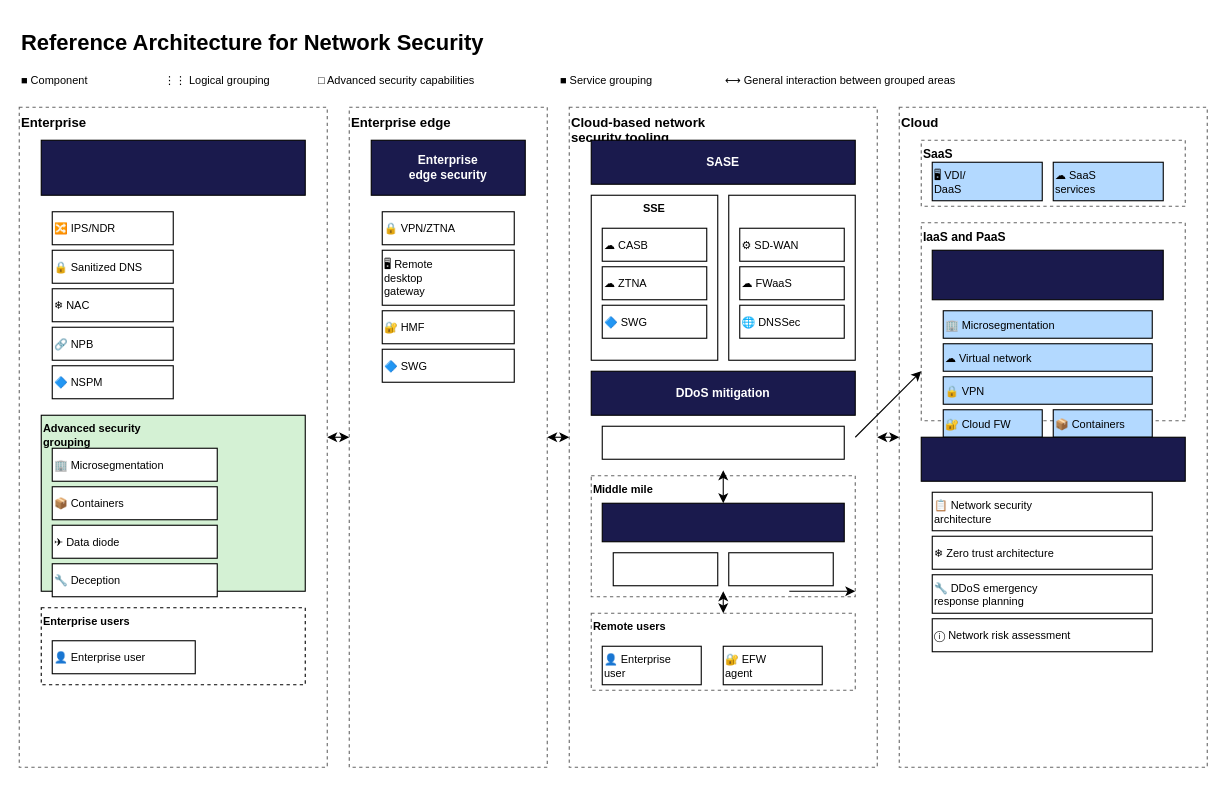
This 1227x787 diagram has some shape labels left out. The centre of each missing label's shape, as x and y in pixels:
"Cloud network security" goes at [1047,274].
"Enterprise network security" goes at [172,167].
"Network security processes" goes at [1052,458].
"Transmission security" goes at [722,522].
"🔄 DoT/DoH" goes at [780,569].
"🔒 TLS" goes at [665,569].
"🛡 DDoS scrubbing center" goes at [722,442].
